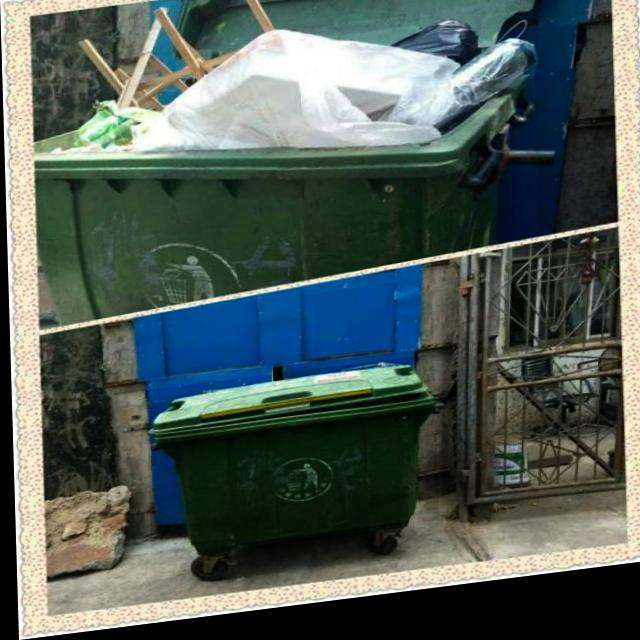garbage_bin: (144, 365, 436, 560)
overflow: (30, 0, 538, 328)
